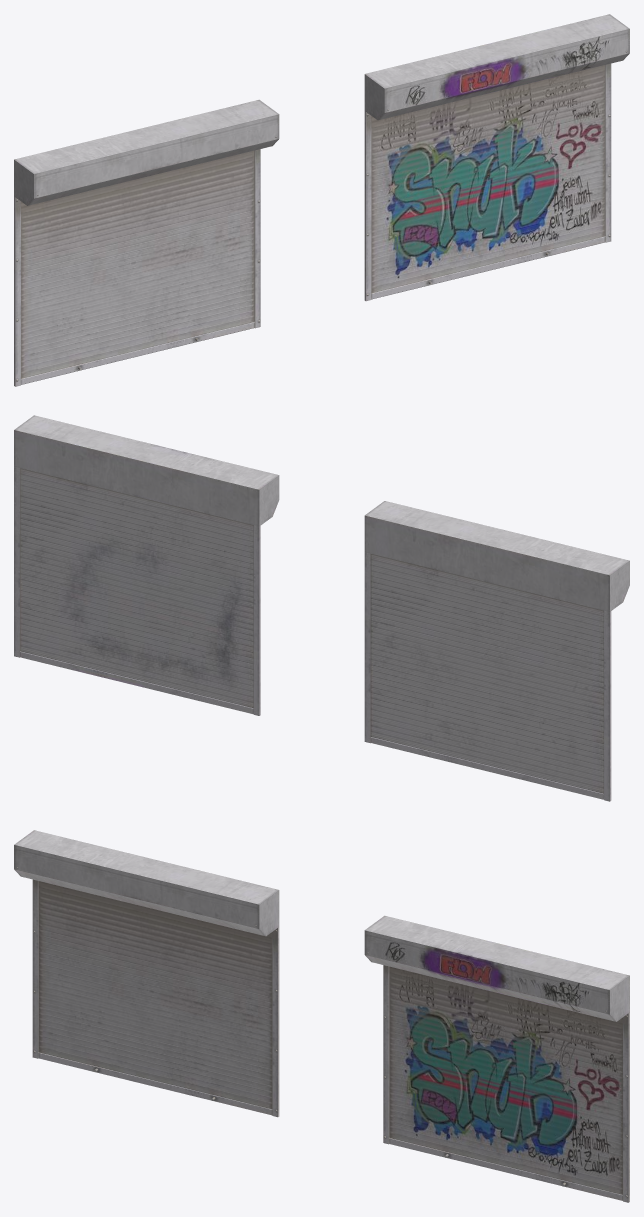
3 renders of one model, top to bottom at view 1: azimuth 30°, elevation 25°; view 2: azimuth 150°, elevation 25°; view 3: azimuth 330°, elevation 25°, orthographic.
Visible parts, largest first — view 1: rollershutter_window_01_graffiti, rollershutter_window_01; view 2: rollershutter_window_01, rollershutter_window_01_graffiti; view 3: rollershutter_window_01, rollershutter_window_01_graffiti.
Part boxes in pixels (x1,y1,x2,y2): rollershutter_window_01_graffiti: (364, 14, 629, 301); rollershutter_window_01: (14, 99, 279, 386); rollershutter_window_01: (364, 501, 629, 801); rollershutter_window_01_graffiti: (14, 415, 279, 715); rollershutter_window_01: (14, 830, 279, 1117); rollershutter_window_01_graffiti: (364, 915, 629, 1202).
Bounding box in the file's own units: 5.1 × 1.85 × 0.3001.
2 materials, 2 textured.
